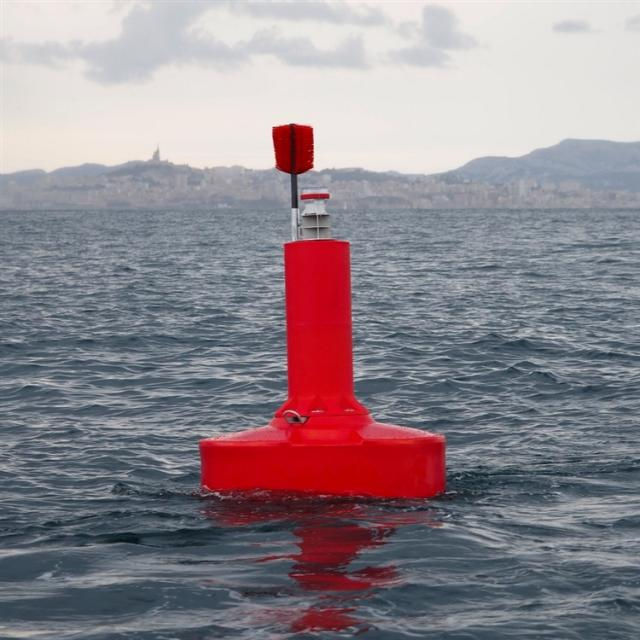buoy: (189, 115, 454, 507)
